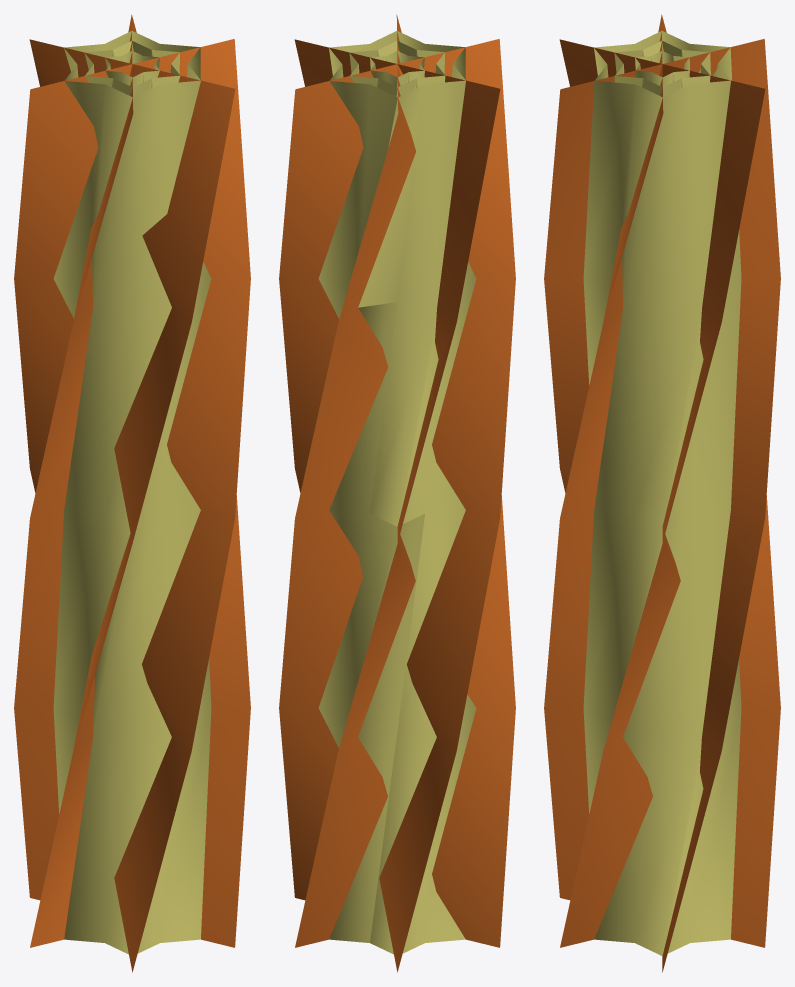
Rendered from MagmaZet.fbx.
The picture shows the model from 3 angles, left to right: view 1: azimuth 30°, elevation 25°; view 2: azimuth 150°, elevation 25°; view 3: azimuth 270°, elevation 25°; orthographic projection.
Parts seen in each view (by area): view 1: n2b2, n5b5, n3b3, n4b4, n0b0, n1b1; view 2: n2b2, n3b3, n4b4, n5b5, n0b0, n1b1; view 3: n2b2, n4b4, n5b5, n3b3, n0b0, n1b1.
Boxes of the visible parts, x1,y1,x2,y2 form: n2b2: [53, 31, 211, 954]; n5b5: [14, 39, 250, 972]; n3b3: [14, 14, 250, 947]; n4b4: [29, 39, 235, 947]; n0b0: [84, 41, 180, 97]; n1b1: [105, 50, 159, 86]; n2b2: [318, 31, 476, 954]; n3b3: [279, 39, 515, 972]; n4b4: [279, 14, 515, 947]; n5b5: [294, 39, 500, 947]; n0b0: [349, 41, 445, 97]; n1b1: [370, 50, 424, 87]; n2b2: [583, 31, 741, 955]; n4b4: [544, 39, 780, 972]; n5b5: [544, 14, 780, 947]; n3b3: [559, 39, 765, 947]; n0b0: [614, 41, 710, 97]; n1b1: [635, 50, 689, 86].
Bounding box in the file's own units: 38.1 × 152 × 38.1.
6 materials, 6 textured.
